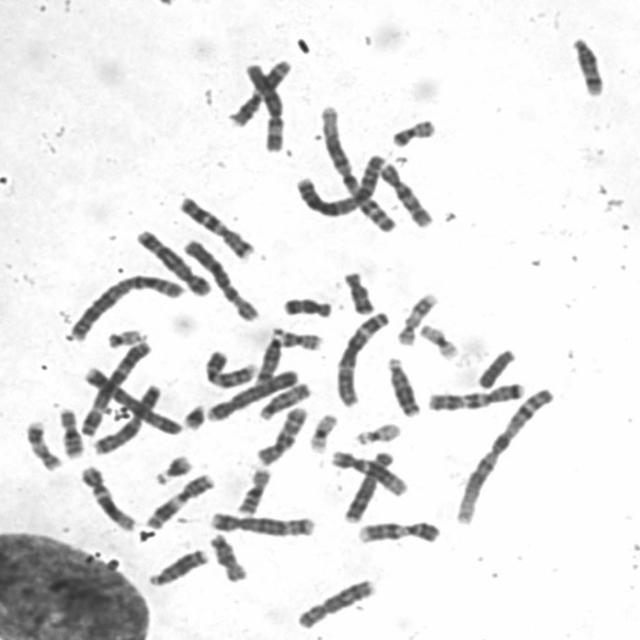A1: (451, 382, 557, 528), (314, 98, 397, 235)
A2: (65, 268, 188, 342), (291, 148, 387, 219)
A3: (77, 336, 154, 437), (331, 307, 393, 407)
B4: (80, 361, 184, 436), (203, 365, 302, 423)
B5: (132, 223, 214, 298), (206, 507, 318, 538)
C10: (374, 158, 435, 228), (252, 402, 310, 468)
C11: (226, 55, 294, 128), (141, 469, 217, 531)
C12: (75, 460, 137, 532), (328, 445, 410, 498)
C6: (179, 234, 263, 323), (239, 57, 288, 153)
C7: (174, 190, 256, 260), (423, 377, 528, 412)
C8: (292, 574, 379, 631), (341, 445, 396, 525)
C9: (352, 516, 442, 546), (202, 344, 260, 390)
D13: (144, 544, 210, 588), (383, 352, 423, 418)
D14: (566, 32, 608, 98), (252, 329, 284, 386)
D15: (254, 378, 314, 420), (206, 529, 250, 583)
E16: (233, 463, 274, 516), (54, 403, 86, 459)
E17: (394, 288, 441, 346), (22, 416, 64, 472)
E18: (338, 266, 377, 316), (278, 292, 336, 320)
F19: (414, 319, 462, 362), (306, 409, 340, 454)
F20: (387, 114, 439, 148), (270, 324, 324, 352)
G21: (150, 449, 195, 486), (179, 398, 208, 432)
G22: (350, 417, 404, 446), (103, 323, 148, 349)
X: (88, 380, 164, 456)
Y: (474, 344, 518, 390)
